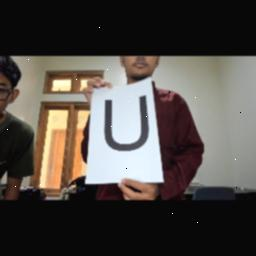u: (104, 94, 150, 154)
